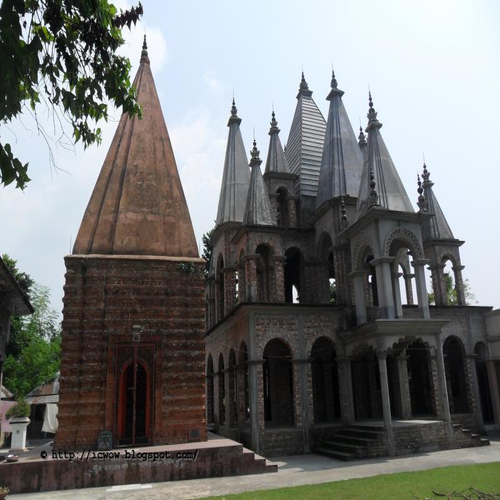Temple: (206, 75, 482, 426), (55, 37, 227, 452)
